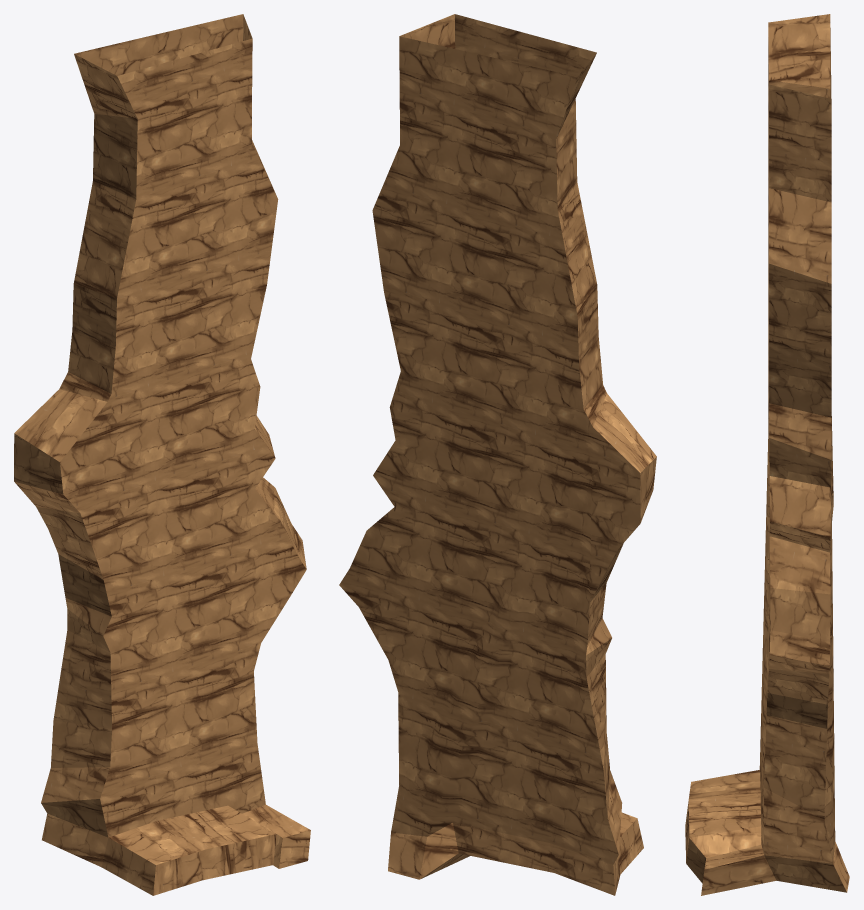
Rendered from plano2.obj.
The picture shows the model from 3 angles, left to right: view 1: azimuth 30°, elevation 25°; view 2: azimuth 150°, elevation 25°; view 3: azimuth 270°, elevation 25°; orthographic projection. The views are drawn at different scales.
Visible parts, largest first — view 1: Plane.001_Plane.004; view 2: Plane.001_Plane.004; view 3: Plane.001_Plane.004.
Boxes of the visible parts, left/top/right/bottom form: Plane.001_Plane.004: left=14, top=14, right=310, bottom=895; Plane.001_Plane.004: left=339, top=14, right=656, bottom=895; Plane.001_Plane.004: left=685, top=14, right=849, bottom=895.
Bounding box in the file's own units: 528 × 1407 × 261.
1 material, 1 textured.
